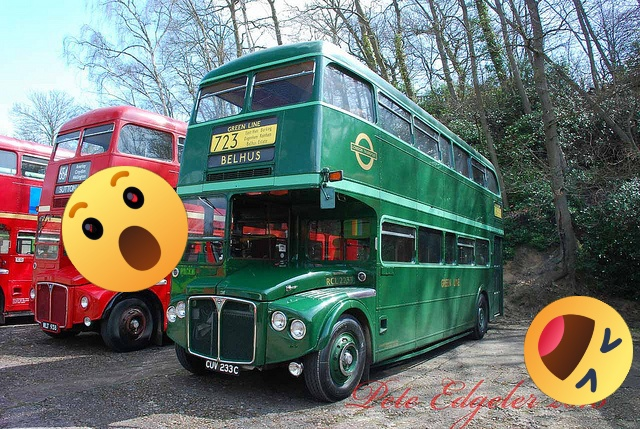haha: (524, 296, 633, 405)
wow: (62, 166, 188, 292)
